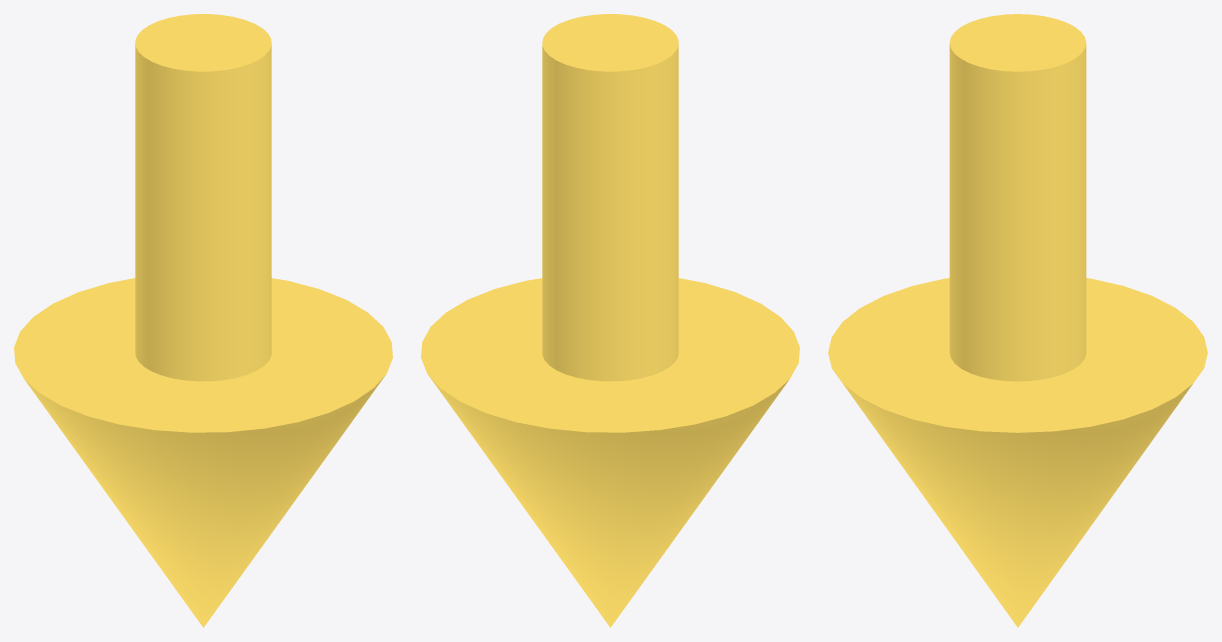
Rendered from PickupArrow.glb.
3 renders of one model, left to right at view 1: azimuth 30°, elevation 25°; view 2: azimuth 150°, elevation 25°; view 3: azimuth 270°, elevation 25°, orthographic.
Visible parts, largest first — view 1: PickupArrow; view 2: PickupArrow; view 3: PickupArrow.
Part boxes in pixels (x1,y1,x2,y2): PickupArrow: [14, 14, 392, 627]; PickupArrow: [421, 14, 799, 627]; PickupArrow: [828, 14, 1207, 627].
Bounding box in the file's own units: 0.1 × 0.17 × 0.1.
